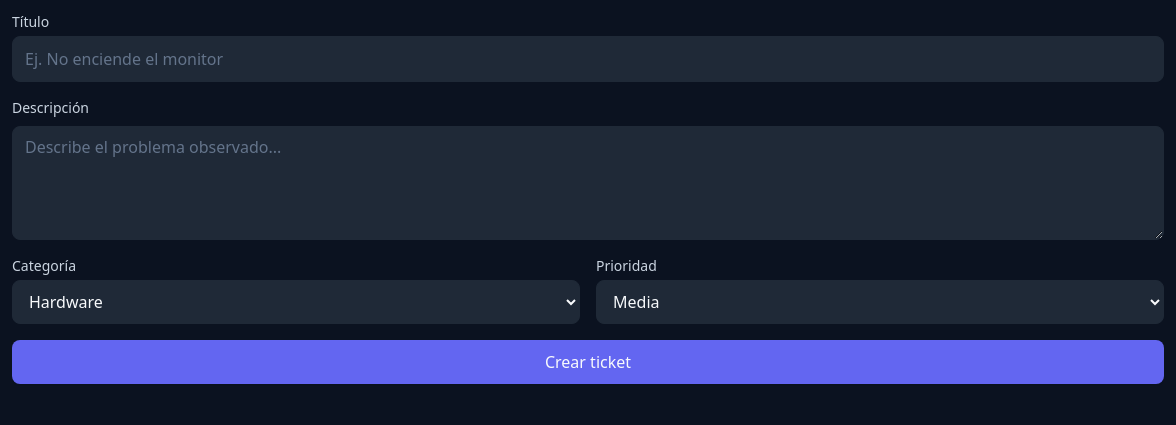
Test: CreateTicketForm › valida descripción mínima al enviar
The image size is (1176, 425).
Type "Problema X" into the field labelled "Título" at {"x": 588, "y": 59}, box [25,37,1151,81]
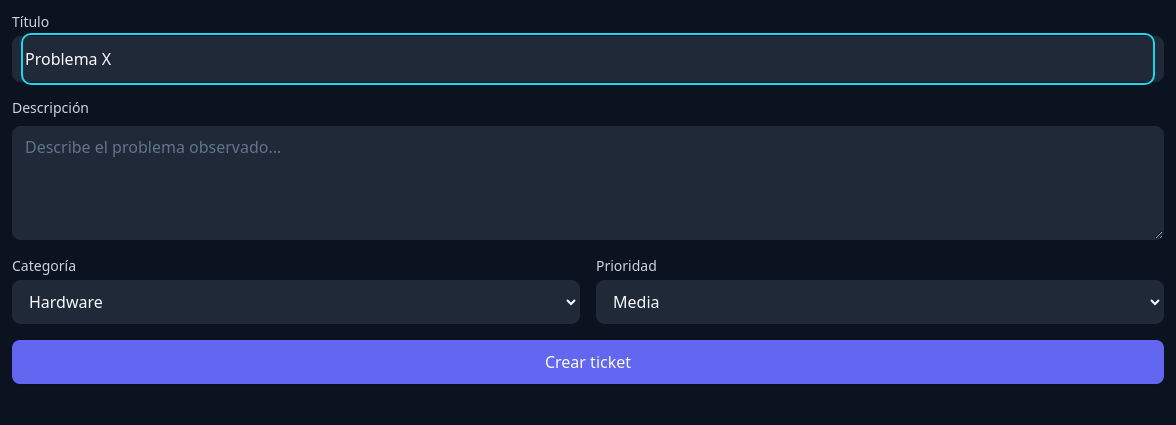
Click the button "Crear ticket" at {"x": 588, "y": 362}, box [12,340,1164,384]
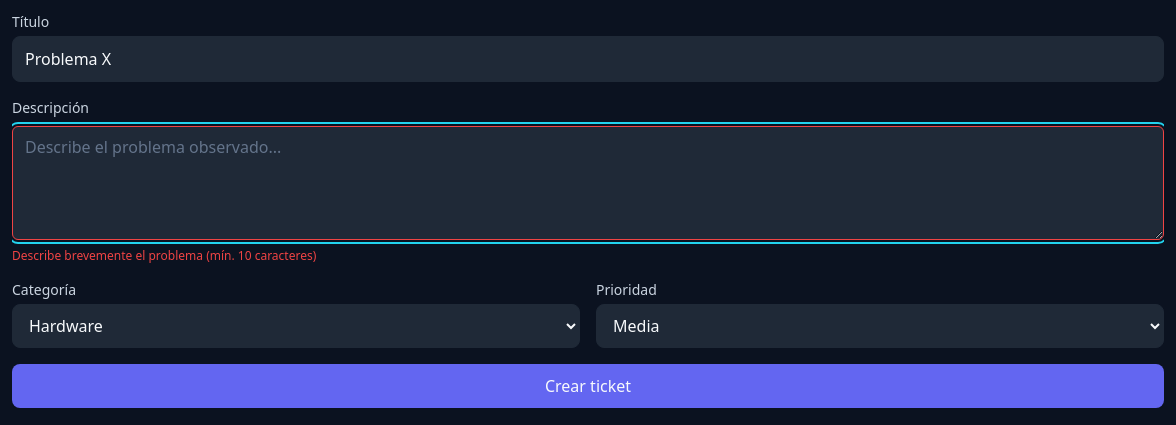
Result: the text "Describe brevemente el problema (mín. 10 caracteres)" is shown at [12,247,316,264]
